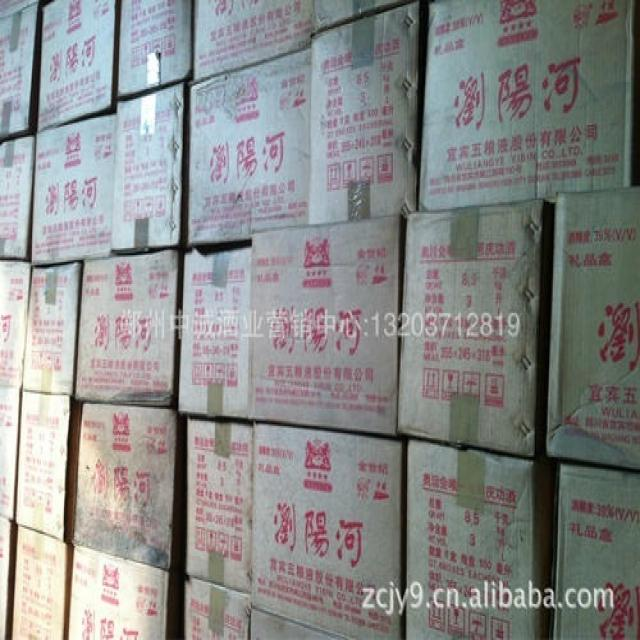box: (418, 3, 636, 210), (397, 199, 557, 457), (251, 216, 406, 440), (253, 423, 404, 638), (404, 437, 560, 636), (309, 3, 428, 225), (547, 185, 639, 472), (188, 43, 312, 246), (76, 396, 175, 569), (74, 249, 182, 407), (553, 461, 638, 637), (112, 80, 188, 256), (174, 245, 250, 421), (32, 114, 118, 267), (188, 410, 253, 599), (40, 2, 121, 132), (16, 390, 82, 543), (191, 3, 314, 83), (70, 542, 169, 637), (22, 260, 84, 395), (7, 520, 75, 638), (117, 3, 193, 105), (0, 3, 41, 140), (0, 258, 35, 389), (0, 135, 36, 260), (184, 576, 251, 638), (311, 3, 416, 39), (249, 602, 336, 638), (0, 387, 21, 522), (0, 515, 15, 637), (2, 1, 43, 17)
